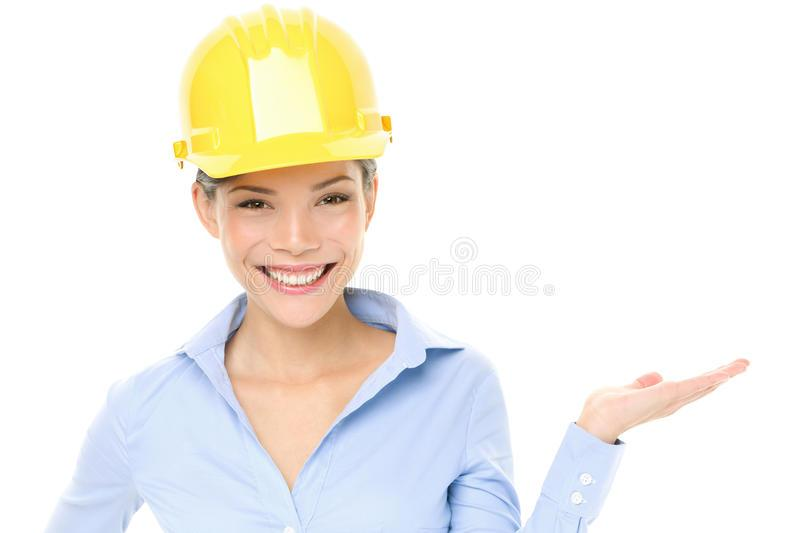helmet: (172, 7, 398, 183)
